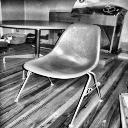chair_success: (10, 15, 112, 127)
